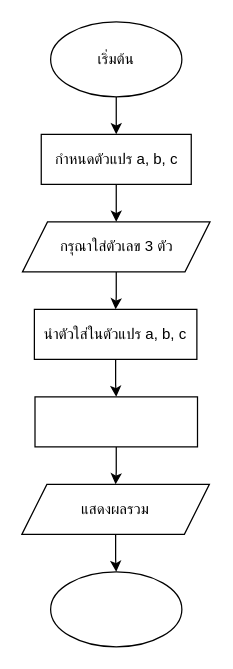
This 233x669 diagram has some shape labels left out. The shapes that lost their labels are listed below. From the top down, each one's box as (x1, y1, x2, y2) in pixels, then its label:
(34, 396, 198, 447): A+B+C = ผลรวม
(49, 571, 182, 647): จบการทำงาน
